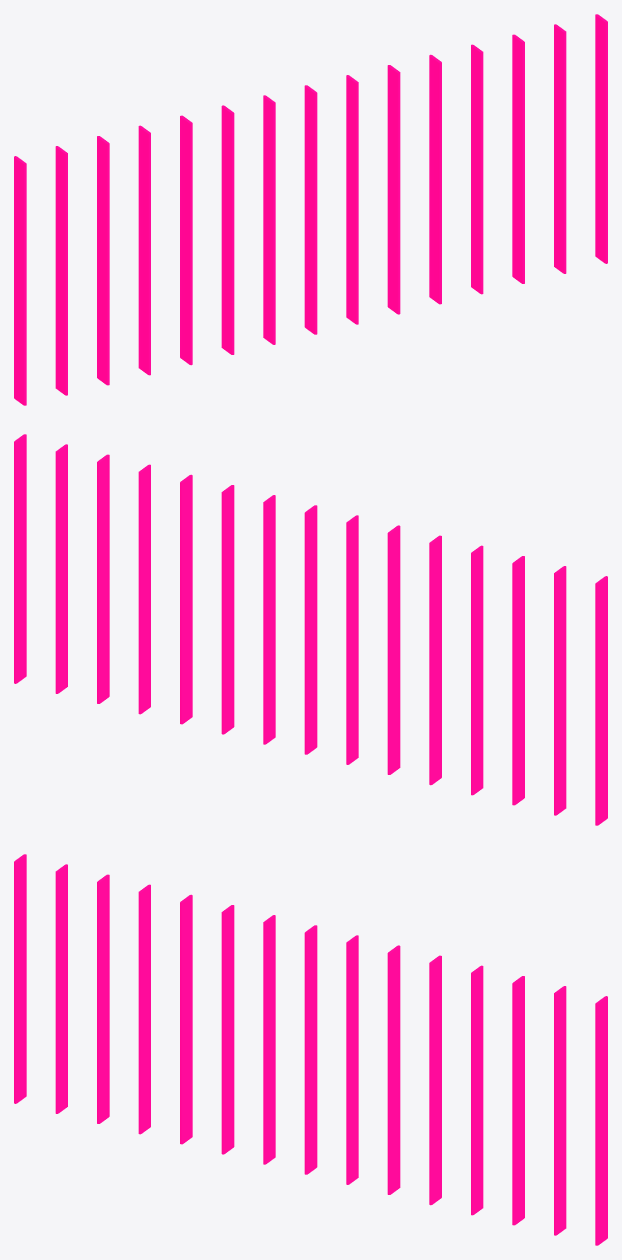
Rendered from SM_MOD_Laser_Door_02_EnergyGateLaser.fbx.
The picture shows the model from 3 angles, top to bottom: view 1: azimuth 30°, elevation 25°; view 2: azimuth 150°, elevation 25°; view 3: azimuth 330°, elevation 25°; orthographic projection.
Visible parts, largest first — view 1: SM_MOD_Laser_Door_02_EnergyGateLaser_LOD0; view 2: SM_MOD_Laser_Door_02_EnergyGateLaser_LOD0; view 3: SM_MOD_Laser_Door_02_EnergyGateLaser_LOD0.
Part boxes in pixels (x1,y1,x2,y2): SM_MOD_Laser_Door_02_EnergyGateLaser_LOD0: (14,14,607,405); SM_MOD_Laser_Door_02_EnergyGateLaser_LOD0: (14,434,607,825); SM_MOD_Laser_Door_02_EnergyGateLaser_LOD0: (14,854,607,1245).
Size of what is drawn, in the model's own units: 647 by 255 by 21.07.
